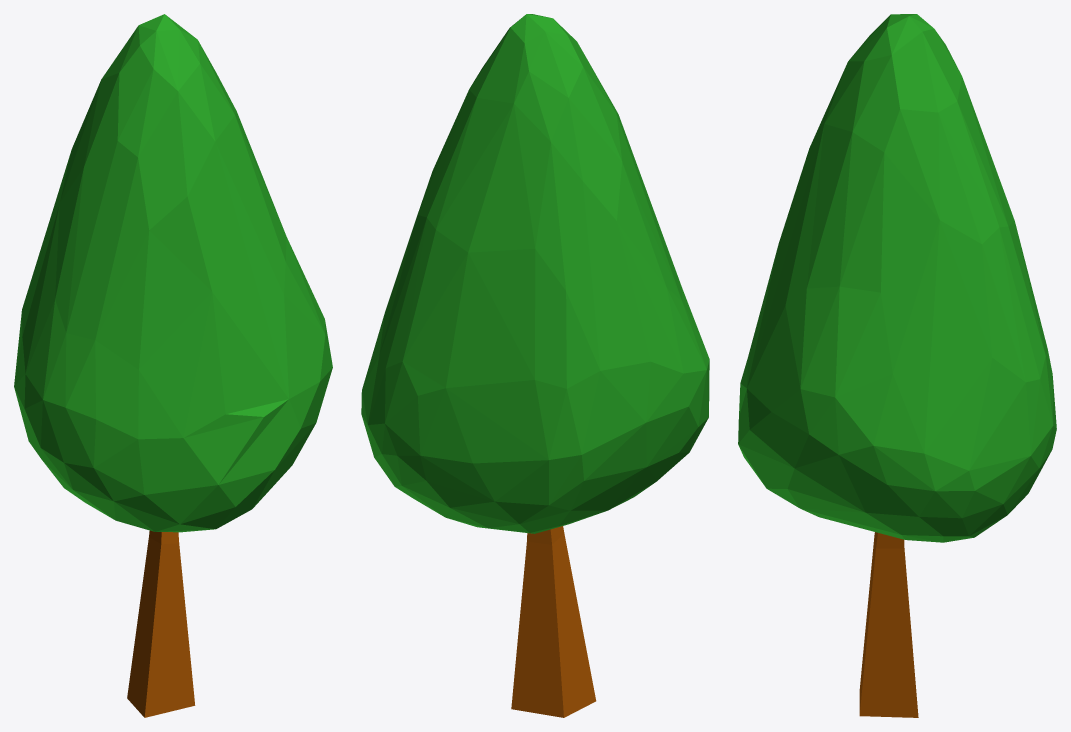
Rendered from Tree6.fbx.
3 renders of one model, left to right at view 1: azimuth 30°, elevation 25°; view 2: azimuth 150°, elevation 25°; view 3: azimuth 270°, elevation 25°, orthographic. The views are drawn at different scales.
Parts seen in each view (by area): view 1: Tree6; view 2: Tree6; view 3: Tree6.
Part boxes in pixels (bbox=[...]): Tree6: bbox=[14, 14, 332, 717]; Tree6: bbox=[361, 14, 709, 717]; Tree6: bbox=[738, 14, 1056, 717].
Bounding box in the file's own units: 4.84 × 4.47 × 10.78.
